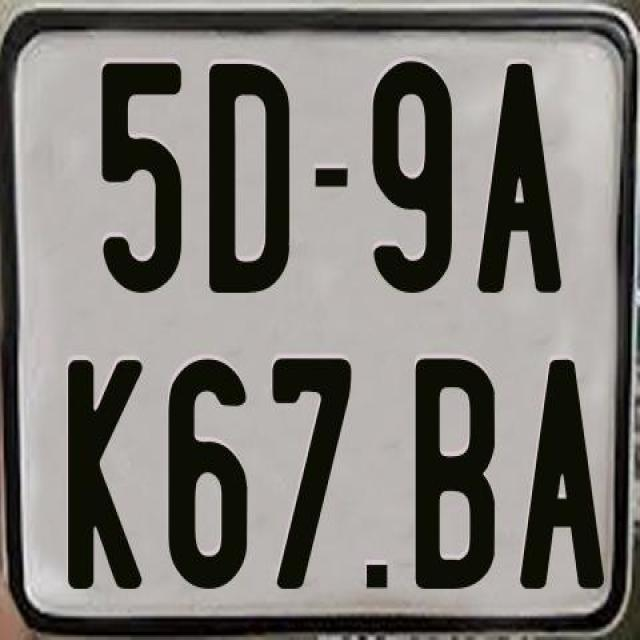5: (97, 62, 179, 296)
6: (168, 359, 250, 596)
7: (272, 357, 358, 587)
9: (370, 60, 458, 295)
A: (476, 59, 560, 297), (519, 360, 605, 592)
B: (411, 354, 491, 586)
D: (209, 63, 295, 300)
K: (68, 359, 142, 588)
